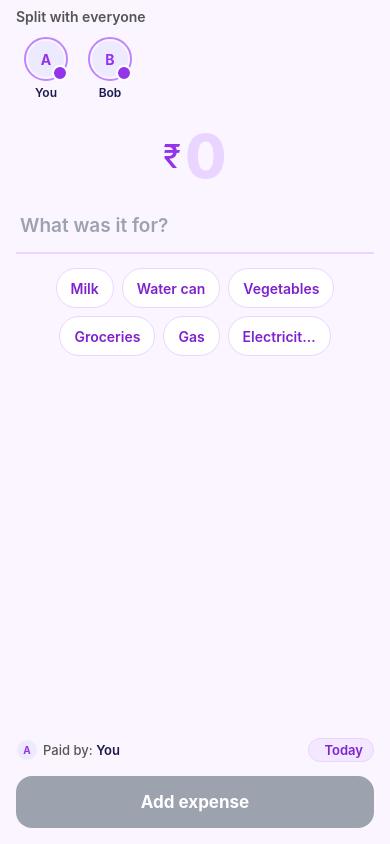
Test: AddGroceryScreen after saving › shows the error and keeps the form when saving fails
This screenshot has width=390, height=844.
expect the text "Split with everyone" is shown: met, box x1=16 y1=8 x2=146 y2=25
Type "50" into the field with test id "amount-input-ADD EXPENSE". click: (206, 156)
box: x1=185 y1=120 x2=227 y2=192
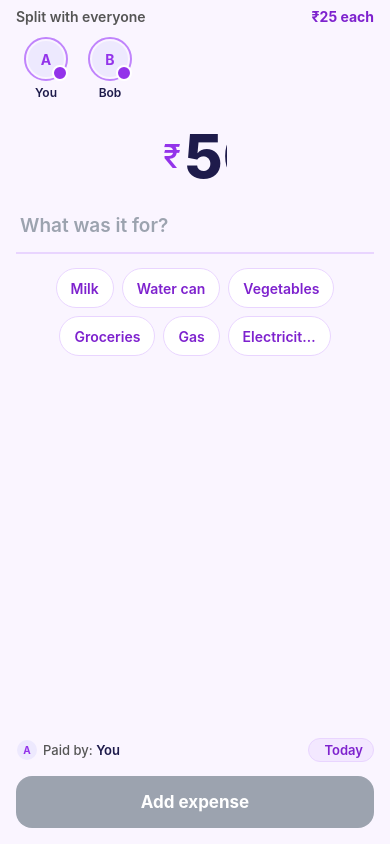
Type "Milk" into the field labelled "What was it for". click: (195, 226)
box: x1=20 y1=208 x2=370 y2=243
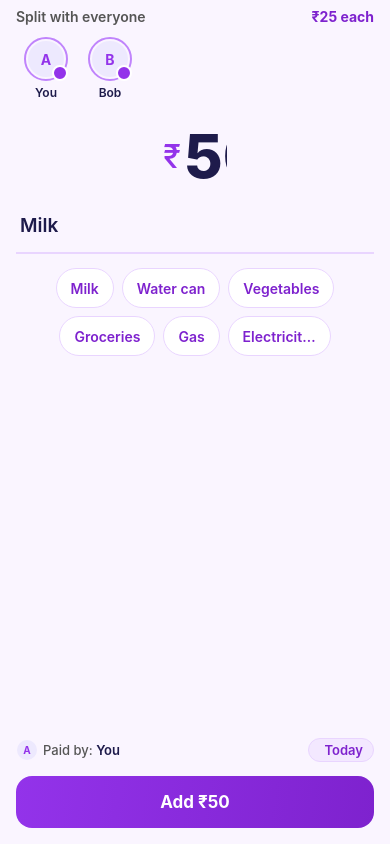
Click the button with test id "submit-button-ADD EXPENSE". click: (195, 802)
box: x1=16 y1=776 x2=374 y2=828
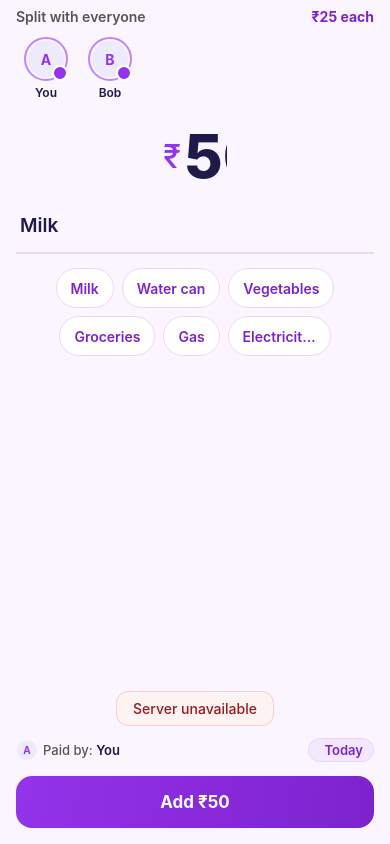
expect the text "Server unavailable" is shown: met, box x1=133 y1=700 x2=257 y2=717
